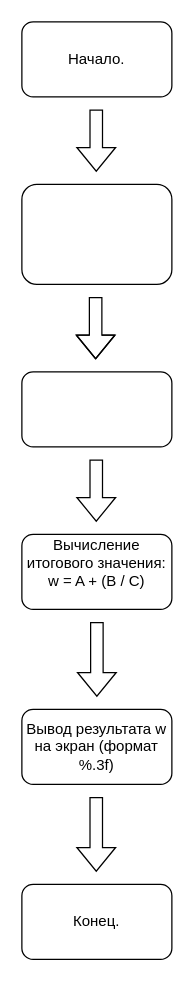
Image size: 194x981. Some labels were removed from this diagram. The centre of each missing label's shape, as x and y in pixels:
"Вычисление слагаемых A,B,C" goes at point (96, 409).
"Объявление переменных: x = -2.235e-2, y = 2.23, z = 15.221" goes at point (96, 233).
